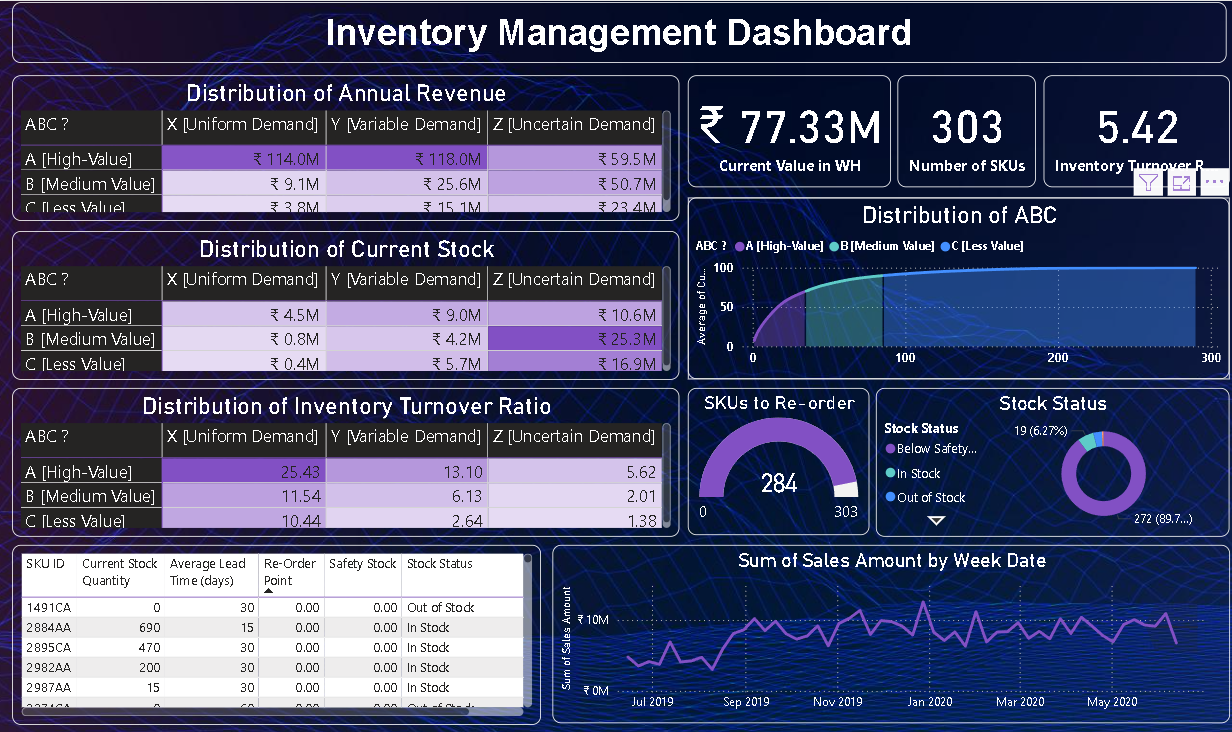

The dashboard page shown, as its layout file describes it:
{"tool":"powerbi","page":{"name":"Page 2","canvas":[1292,766],"ordinal":1},"visuals":[{"type":"stackedAreaChart","title":"Distribution of ABC","fields":{"Category":["Stock.ABC Rank"],"Y":["Avg(Stock.Cummulative Share)"],"Series":["Stock.ABC ?"]},"box":[719,205.2,565.5,189.7],"z":0},{"type":"pivotTable","title":"Distribution of Annual Revenue","fields":{"Rows":["Stock.ABC ?"],"Columns":["Stock.XYZ ?"],"Values":["Sum(Stock.Annual Revenue)"]},"box":[13.8,77.6,696.6,151.7],"z":1000},{"type":"pivotTable","title":"Distribution of Current Stock","fields":{"Rows":["Stock.ABC ?"],"Columns":["Stock.XYZ ?"],"Values":["Sum(Stock.Value in WH)"]},"box":[13.8,239.7,696.6,155.2],"z":2000},{"type":"card","fields":{"Values":["Stock.Inventory Turnover Ratio"]},"box":[1089.7,77.6,194.8,117.2],"z":3000},{"type":"card","fields":{"Values":["Count(Stock.SKU ID)"]},"box":[937.9,77.6,144.8,117.2],"z":4000},{"type":"card","fields":{"Values":["Sum(Stock.Value in WH)"]},"box":[719,77.6,212.1,117.2],"z":5000},{"type":"pivotTable","title":"Distribution of Inventory Turnover Ratio","fields":{"Rows":["Stock.ABC ?"],"Columns":["Stock.XYZ ?"],"Values":["Stock.Inventory Turnover Ratio"]},"box":[13.8,403.4,696.6,155.2],"z":6000},{"type":"tableEx","fields":{"Values":["Stock.SKU ID","Stock.Current Stock Quantity","Stock.Average Lead Time (days)","Stock.Re-Order Point","Stock.Safety Stock","Stock.Stock Status"]},"box":[13.8,567.2,551.7,187.9],"z":7000},{"type":"gauge","title":"SKUs to Re-order","fields":{"Y":["Stock.SKUs to Re-order"],"MaxValue":["CountNonNull(Stock.SKU ID)"]},"box":[719,403.4,189.7,153.4],"z":8000},{"type":"donutChart","title":"Stock Status","fields":{"Category":["Stock.Stock Status"],"Y":["CountNonNull(Stock.SKU ID)"]},"box":[915.5,403.4,369,155.2],"z":9000},{"type":"lineChart","fields":{"Category":["Weekly Demand Sheet.Week Date"],"Y":["Sum(Weekly Demand Sheet.Sales Amount)"]},"box":[577.6,567.2,706.9,186.2],"z":10000},{"type":"textbox","box":[13.8,1.7,1267.2,63.8],"z":11000}]}

Visuals, with their boxes in screenshot pixels (x1, y1, x2, y2), scaled from the page's 1292x766 canvas onto the 1232x732 screenshot:
"Distribution of ABC" stackedAreaChart: box(686, 196, 1225, 377)
"Distribution of Annual Revenue" pivotTable: box(13, 74, 677, 219)
"Distribution of Current Stock" pivotTable: box(13, 229, 677, 377)
card - Stock.Inventory Turnover Ratio: box(1039, 74, 1225, 186)
card - Count(Stock.SKU ID): box(894, 74, 1032, 186)
card - Sum(Stock.Value in WH): box(686, 74, 888, 186)
"Distribution of Inventory Turnover Ratio" pivotTable: box(13, 385, 677, 534)
tableEx - Stock.SKU ID x Stock.Current Stock Quantity: box(13, 542, 539, 722)
"SKUs to Re-order" gauge: box(686, 385, 867, 532)
"Stock Status" donutChart: box(873, 385, 1225, 534)
lineChart - Weekly Demand Sheet.Week Date x Sum(Weekly Demand Sheet.Sales Amount): box(551, 542, 1225, 720)
textbox: box(13, 2, 1222, 63)
